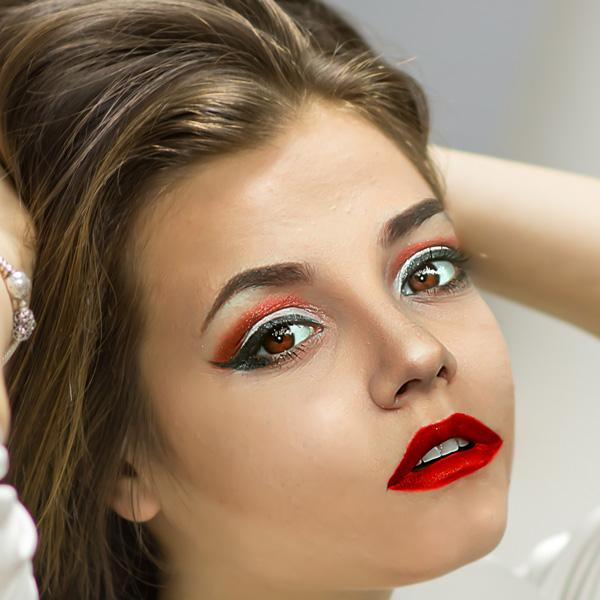Eyes: (214, 295, 334, 388), (394, 231, 469, 312)
